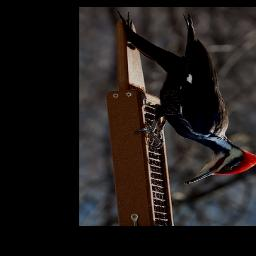Woodpecker: (117, 11, 256, 186)
